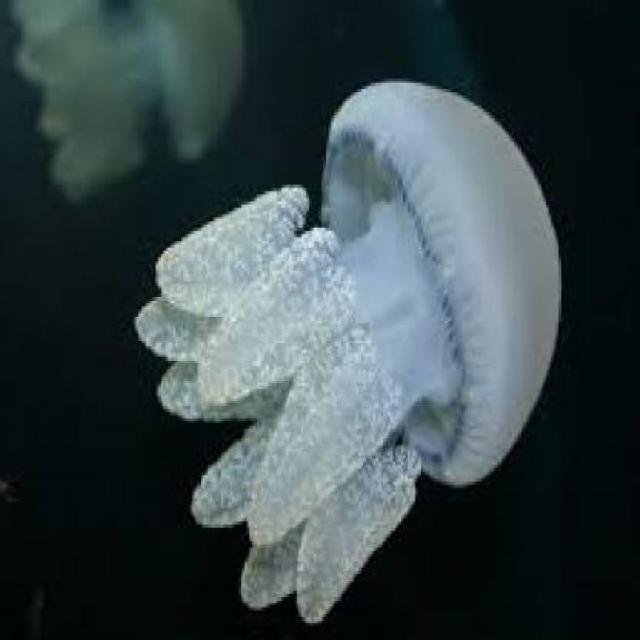Jellyfish: (126, 73, 563, 630)
